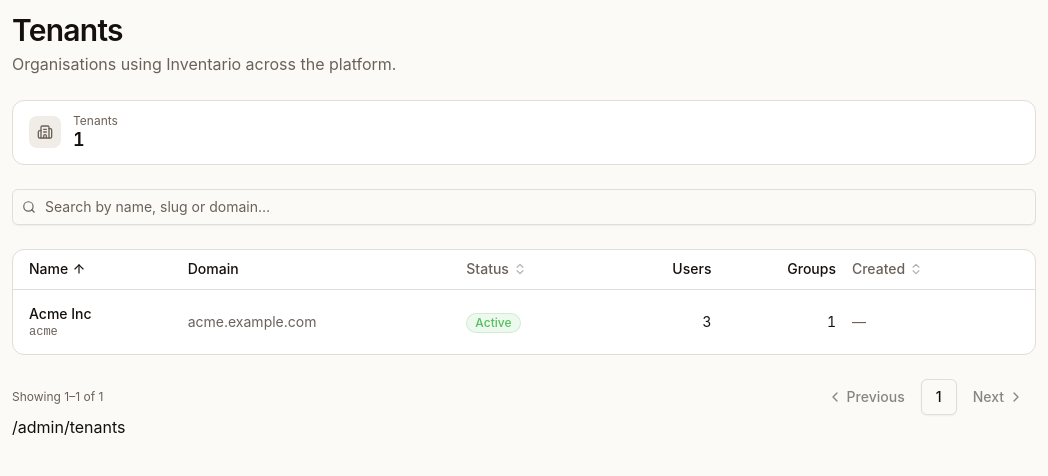
Scenario: AdminTenantsPage › sends the typed search term to the server as ?q and persists it in the URL
Expected: the text "Acme Inc" is shown, [29,305,92,322]
Type "globex" into the field with test id "admin-tenants-search" at (524, 206), box [12,188,1036,224]
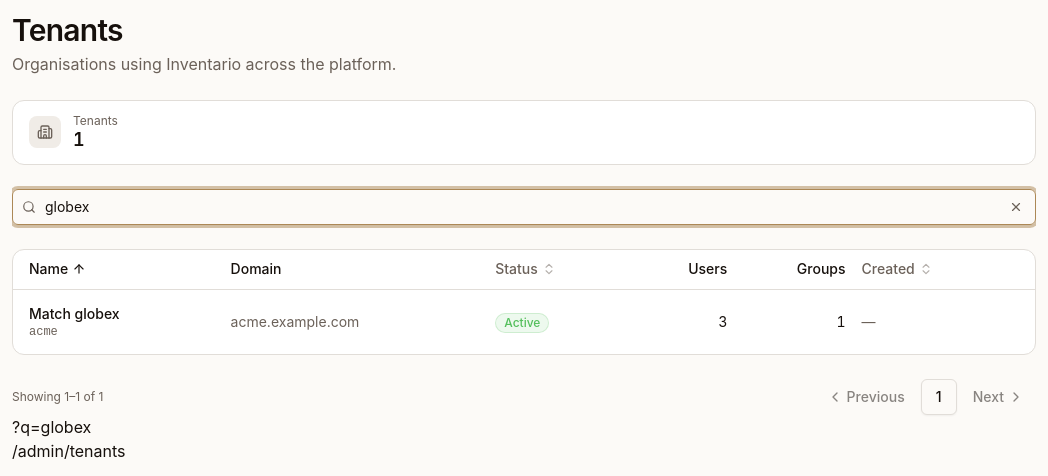
Expected: the text "Match globex" is shown, [29,305,120,322]
